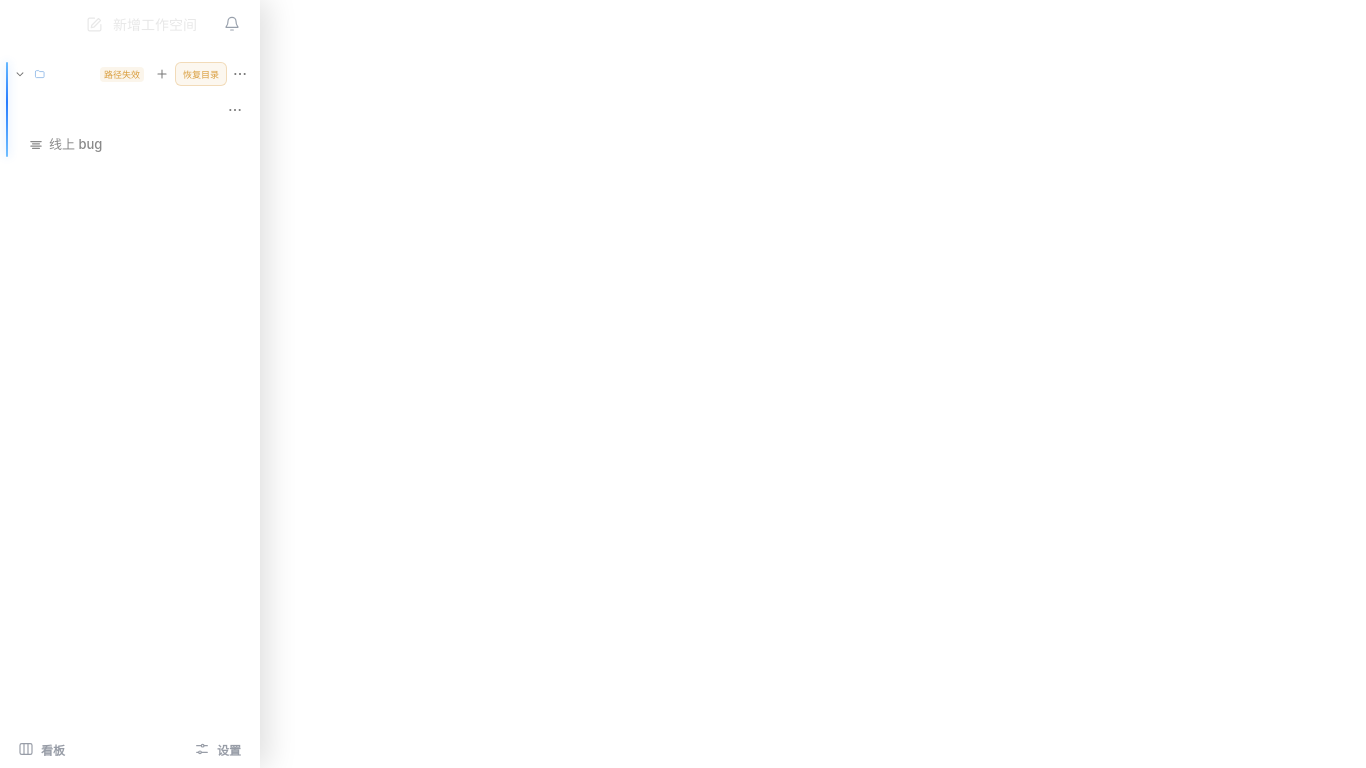
Scenario: Workspace and Task navigation › keeps the reference product rename dialog open when the authoritative rename is rejected
Click the button named "事项菜单：事项 A" at {"x": 235, "y": 110}, box [224, 99, 246, 121]
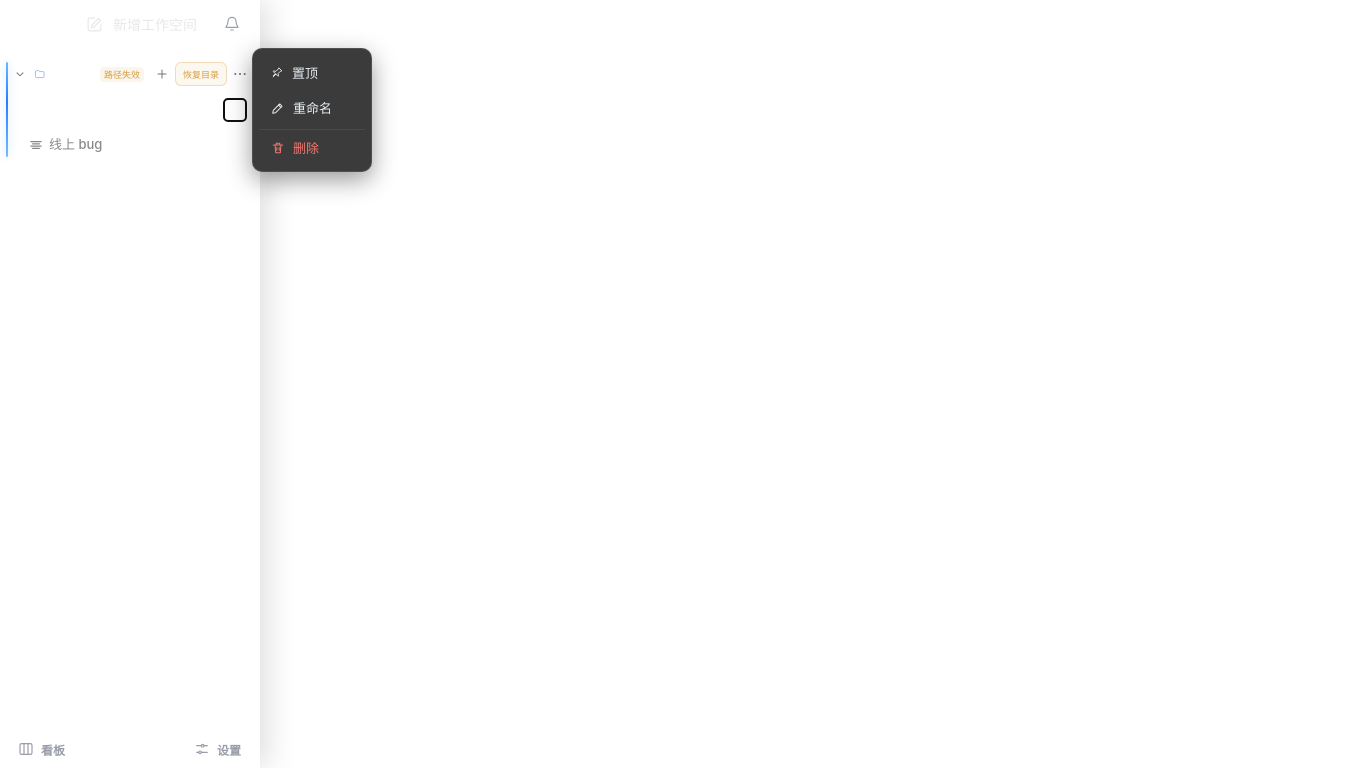
Click the menu item "重命名" at {"x": 312, "y": 108}, box [259, 90, 365, 125]
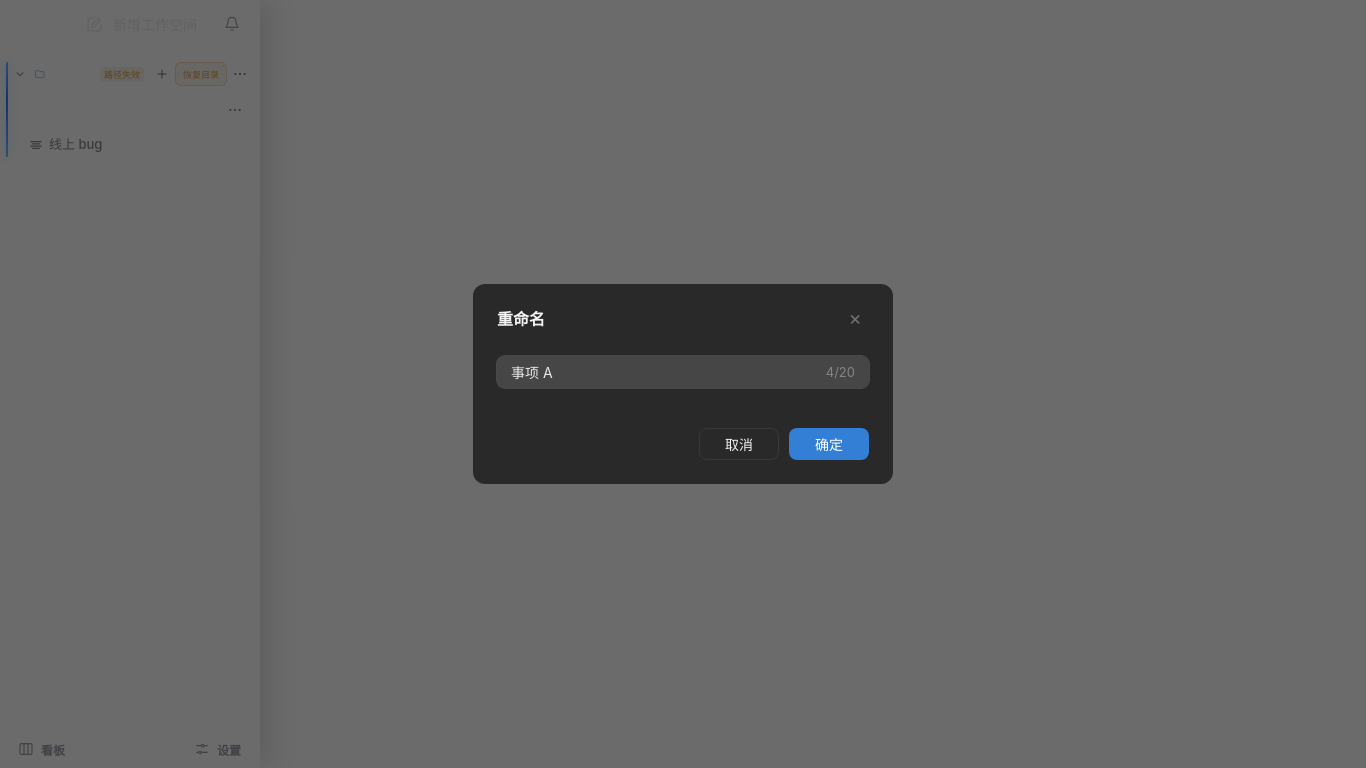
Replace the text in the field named "事项名称" with "新名字" at {"x": 683, "y": 372}, box [497, 356, 869, 388]
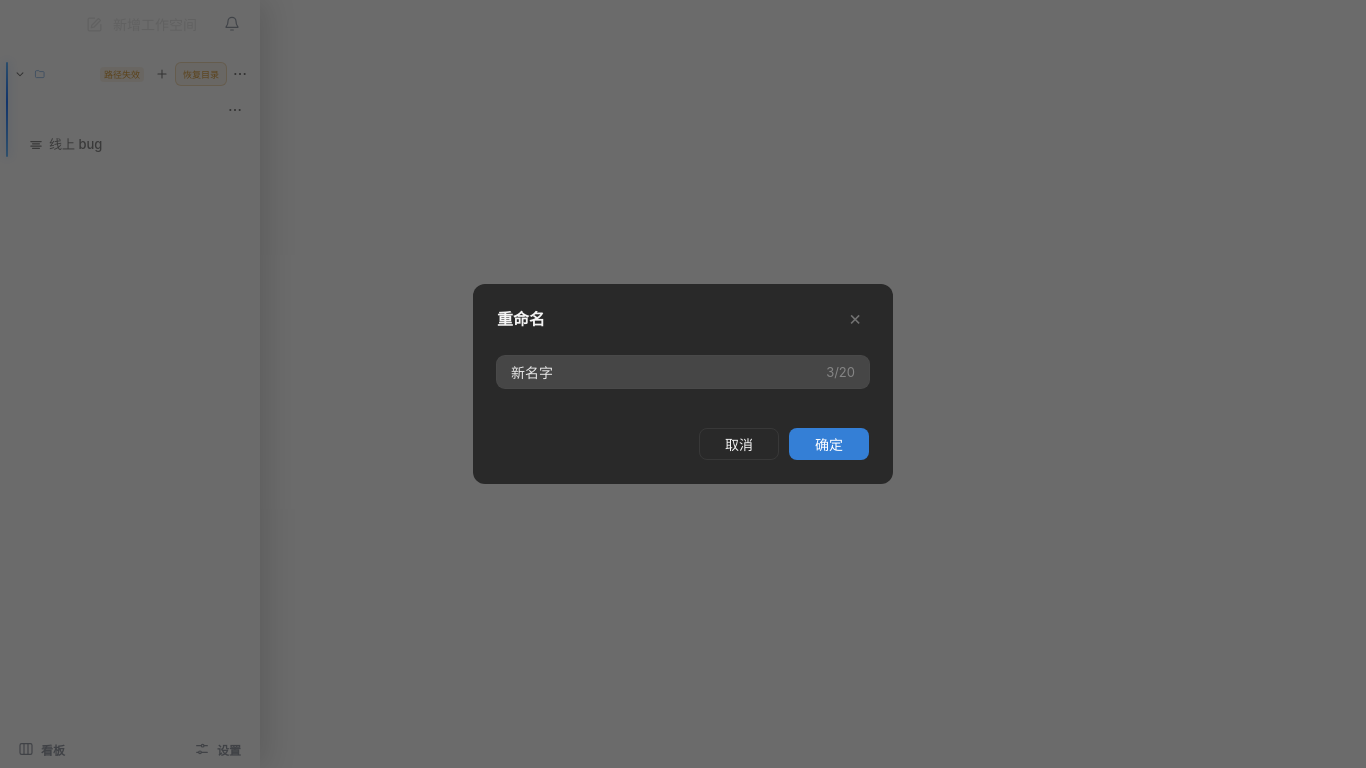
Click the button "确定" at {"x": 829, "y": 444}, box [789, 428, 869, 460]
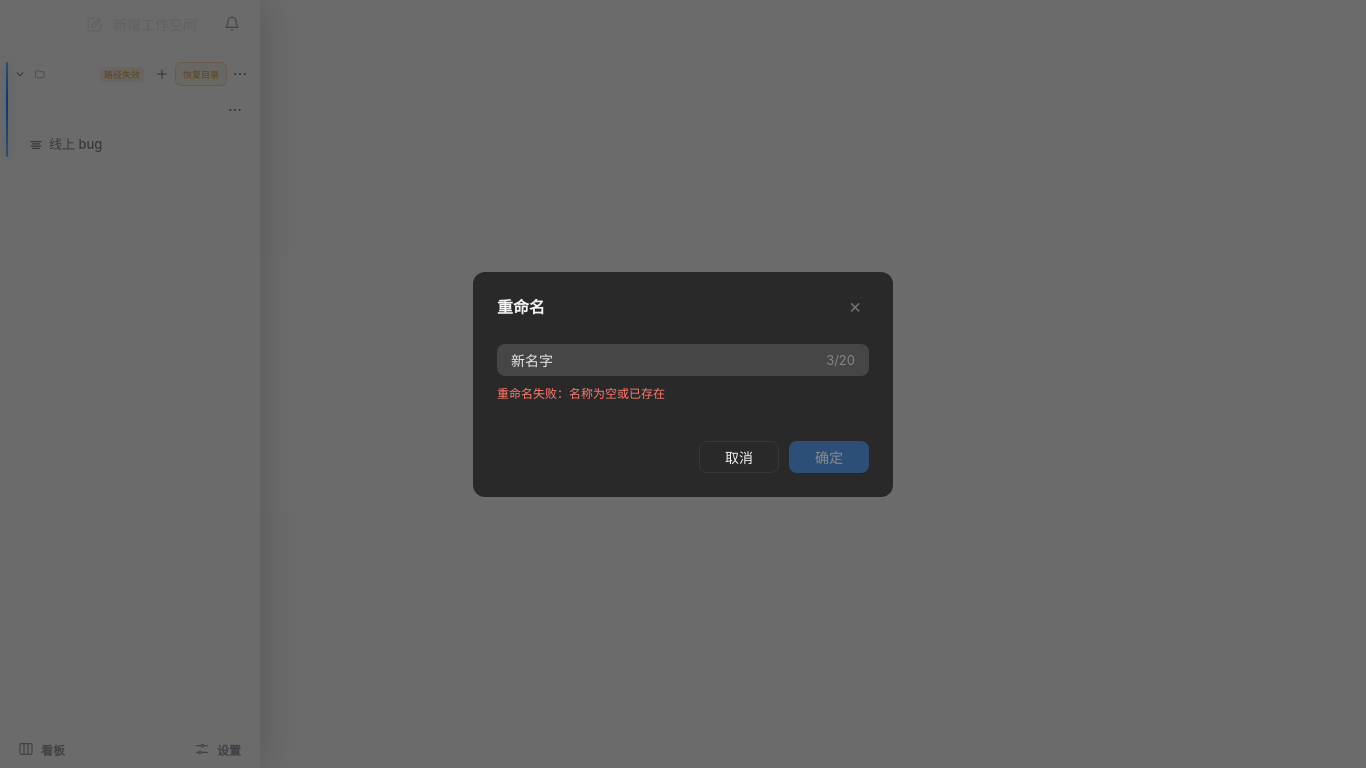
Check: the dialog is shown, box [473, 272, 893, 496]
Check: the text "重命名失败：名称为空或已存在" is shown, box [497, 386, 665, 400]
Type " 2" into the field named "事项名称" at {"x": 683, "y": 360}, box [497, 344, 869, 376]
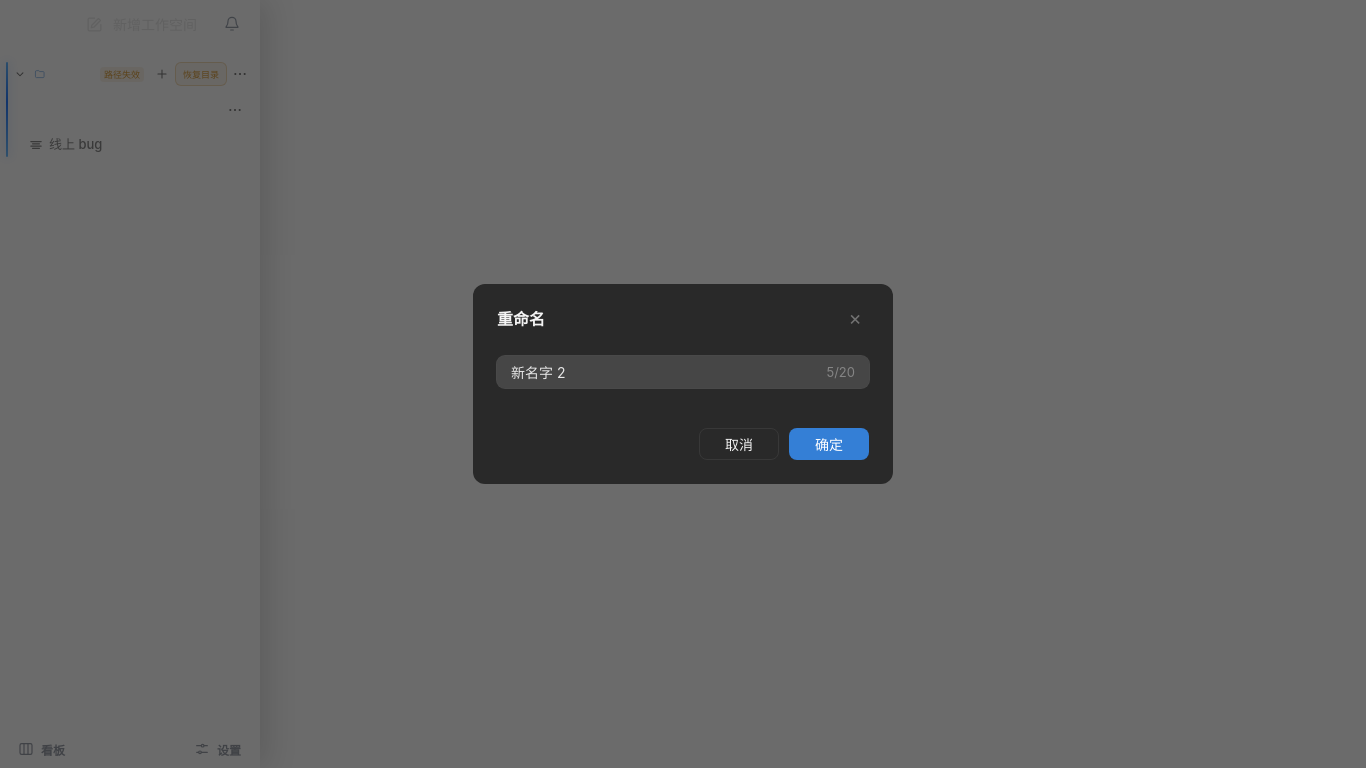
Check: the text "重命名失败：名称为空或已存在" is gone
Check: the button "确定" is enabled, box [789, 428, 869, 460]
